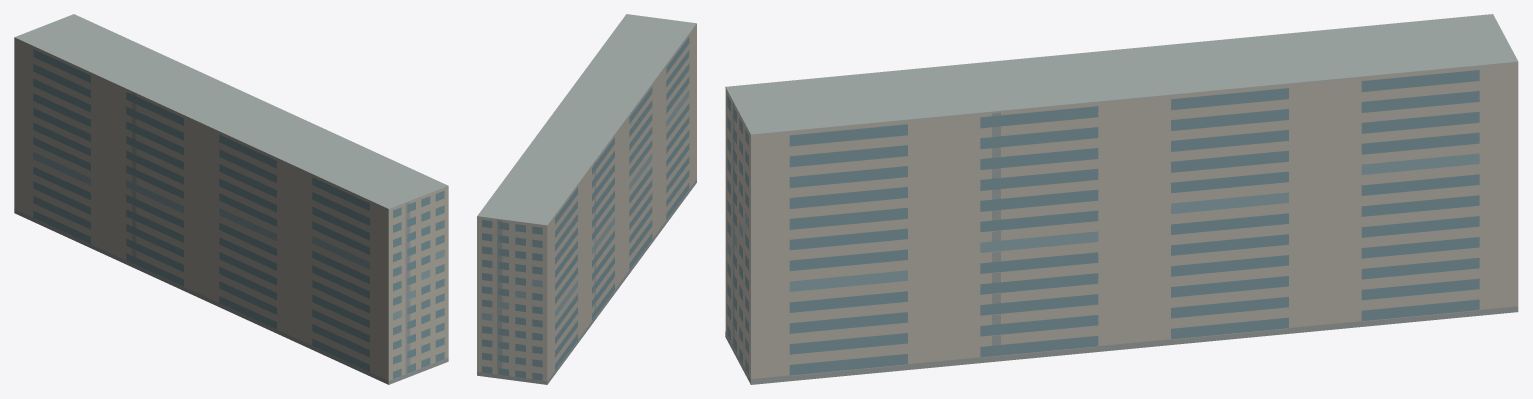
Rendered from residential-5b9d2691-5b73-48f1-9a76-0caa4b5fc92a.glb.
The picture shows the model from 3 angles, left to right: view 1: azimuth 30°, elevation 25°; view 2: azimuth 150°, elevation 25°; view 3: azimuth 270°, elevation 25°; orthographic projection. The views are drawn at different scales.
Visible parts, largest first — view 1: residential-5b9d2691-5b73-48f1-9a76-0caa4b5fc92a.tmp; view 2: residential-5b9d2691-5b73-48f1-9a76-0caa4b5fc92a.tmp; view 3: residential-5b9d2691-5b73-48f1-9a76-0caa4b5fc92a.tmp.
Part boxes in pixels (x1,y1,x2,y2): residential-5b9d2691-5b73-48f1-9a76-0caa4b5fc92a.tmp: [14, 14, 448, 384]; residential-5b9d2691-5b73-48f1-9a76-0caa4b5fc92a.tmp: [477, 14, 696, 384]; residential-5b9d2691-5b73-48f1-9a76-0caa4b5fc92a.tmp: [725, 14, 1518, 384].
Bounding box in the file's own units: 37.78 × 36.6 × 105.
